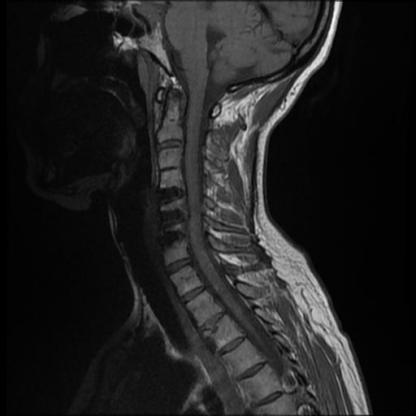Disc Protrusionrotation: (160, 207, 187, 228), (159, 188, 188, 203), (159, 165, 183, 174)
Osteophytesrotation: (160, 208, 187, 229), (159, 189, 188, 203), (159, 165, 183, 174)
